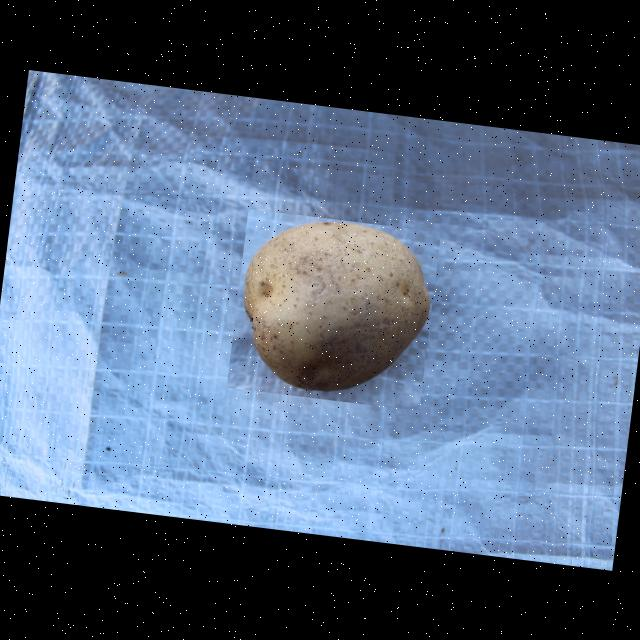Diseased-fungal potato: (227, 208, 440, 410)
